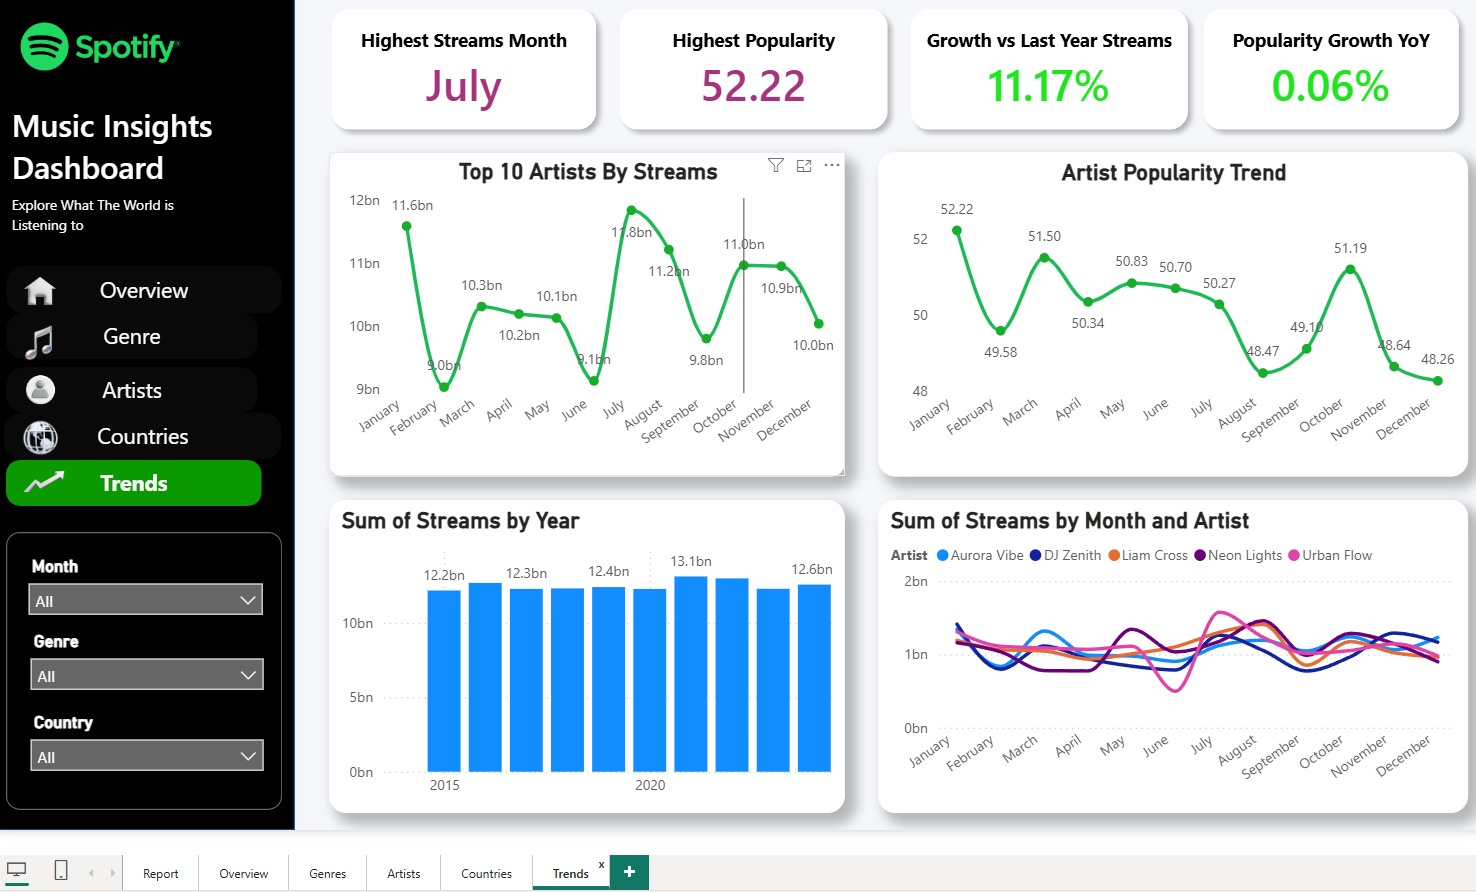

Layout of this report page (visuals, bound fields, positions):
{"tool":"powerbi","page":{"name":"Trends","canvas":[1280,720],"ordinal":5},"visuals":[{"type":"shape","box":[202.5,135,616.2,300],"z":0},{"type":"shape","box":[0,0,181,720.2],"z":1000},{"type":"image","box":[0,0,181,114.3],"z":2000},{"type":"textbox","box":[9.5,89.3,152.4,89.3],"z":3000},{"type":"textbox","box":[9.5,166.7,152.4,48.8],"z":4000},{"type":"cardVisual","fields":{"Data":["Spotify_Data.Highest Streams Month"]},"box":[203.6,14.3,264.8,100.2],"z":5000},{"type":"cardVisual","fields":{"Data":["Spotify_Data.Average Popularity"]},"box":[1016.8,13.7,253.9,100.2],"z":6000},{"type":"cardVisual","fields":{"Data":["Spotify_Data.Highest Popularity Month"]},"box":[487.6,11.3,245.6,100.2],"z":7000},{"type":"lineChart","title":"Monthly Streams Trend","fields":{"Y":["Sum(Spotify_Data.Streams)"],"Category":["Spotify_Data.Release_Date.Variation.Date Hierarchy.Month"]},"box":[202.7,134.6,530.1,280.6],"z":8000},{"type":"clusteredColumnChart","fields":{"Category":["Spotify_Data.Release_Date.Variation.Date Hierarchy.Year"],"Y":["Sum(Spotify_Data.Streams)"]},"box":[202.7,425.2,531.5,277.8],"z":9000},{"type":"actionButton","box":[10,225,152.5,40],"z":10000},{"type":"actionButton","box":[10,275,152.5,40],"z":11000},{"type":"actionButton","box":[10,320,152.5,40],"z":12000},{"type":"actionButton","box":[7.5,368.8,156.2,40],"z":13000},{"type":"actionButton","box":[10,415,152.5,40],"z":14000},{"type":"cardVisual","fields":{"Data":["Spotify_Data.Stream Growth %"]},"box":[762.5,14.2,251.1,100.2],"z":15000},{"type":"actionButton","box":[0,0,100,40],"z":16000},{"type":"lineChart","title":"Top Artists Trend (Streams)","fields":{"Category":["Spotify_Data.Release_Date.Variation.Date Hierarchy.Month"],"Y":["Sum(Spotify_Data.Streams)"],"Series":["Spotify_Data.Artist"]},"box":[762.5,425.2,508.8,277.8],"z":17000},{"type":"lineChart","title":"Monthly Popularity Trend","fields":{"Category":["Spotify_Data.Release_Date.Variation.Date Hierarchy.Month"],"Y":["Avg(Spotify_Data.Popularity)"]},"box":[762.5,136.1,507.4,279.2],"z":18000}]}

Visuals, with their boxes on the page's 1280x720 design canvas (x1, y1, x2, y2). These are canvas units, not pixel positions in the 1476x892 screenshot, which may show the page scaled, cropped or inside an application window:
shape: <region>202, 135, 819, 435</region>
shape: <region>0, 0, 181, 720</region>
image: <region>0, 0, 181, 114</region>
textbox: <region>10, 89, 162, 179</region>
textbox: <region>10, 167, 162, 216</region>
cardVisual - Spotify_Data.Highest Streams Month: <region>204, 14, 468, 114</region>
cardVisual - Spotify_Data.Average Popularity: <region>1017, 14, 1271, 114</region>
cardVisual - Spotify_Data.Highest Popularity Month: <region>488, 11, 733, 112</region>
"Monthly Streams Trend" lineChart: <region>203, 135, 733, 415</region>
clusteredColumnChart - Spotify_Data.Release_Date.Variation.Date Hierarchy.Year x Sum(Spotify_Data.Streams): <region>203, 425, 734, 703</region>
actionButton: <region>10, 225, 162, 265</region>
actionButton: <region>10, 275, 162, 315</region>
actionButton: <region>10, 320, 162, 360</region>
actionButton: <region>8, 369, 164, 409</region>
actionButton: <region>10, 415, 162, 455</region>
cardVisual - Spotify_Data.Stream Growth %: <region>762, 14, 1014, 114</region>
actionButton: <region>0, 0, 100, 40</region>
"Top Artists Trend (Streams)" lineChart: <region>762, 425, 1271, 703</region>
"Monthly Popularity Trend" lineChart: <region>762, 136, 1270, 415</region>
